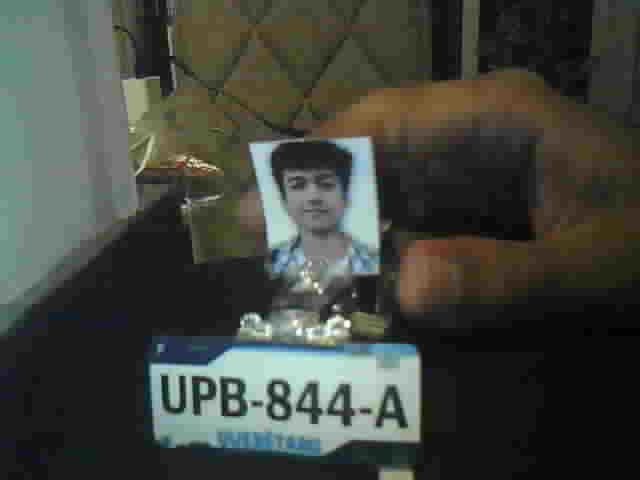PLACA: (145, 333, 423, 466)
ROSTRO: (266, 144, 377, 273)
